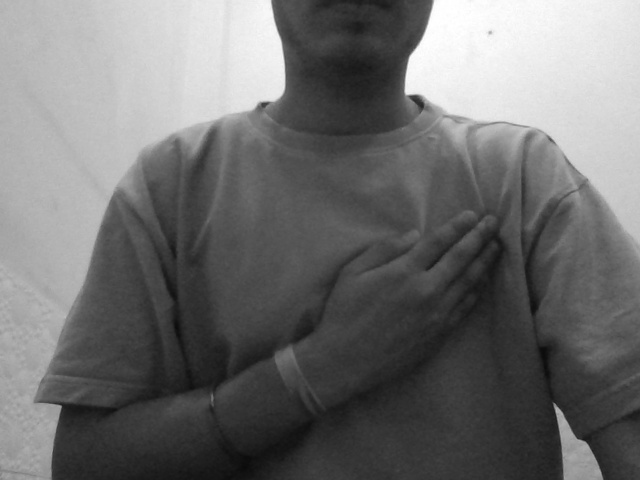Sorry: (294, 196, 555, 412)
